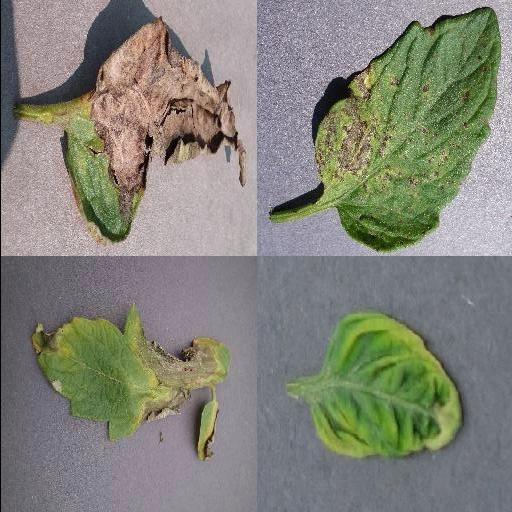Late Blight: (59, 15, 247, 247), (29, 297, 231, 441), (190, 398, 222, 462)
Septoria: (309, 7, 501, 252)
Yellow Leaf Curl Virus: (310, 312, 460, 458)
